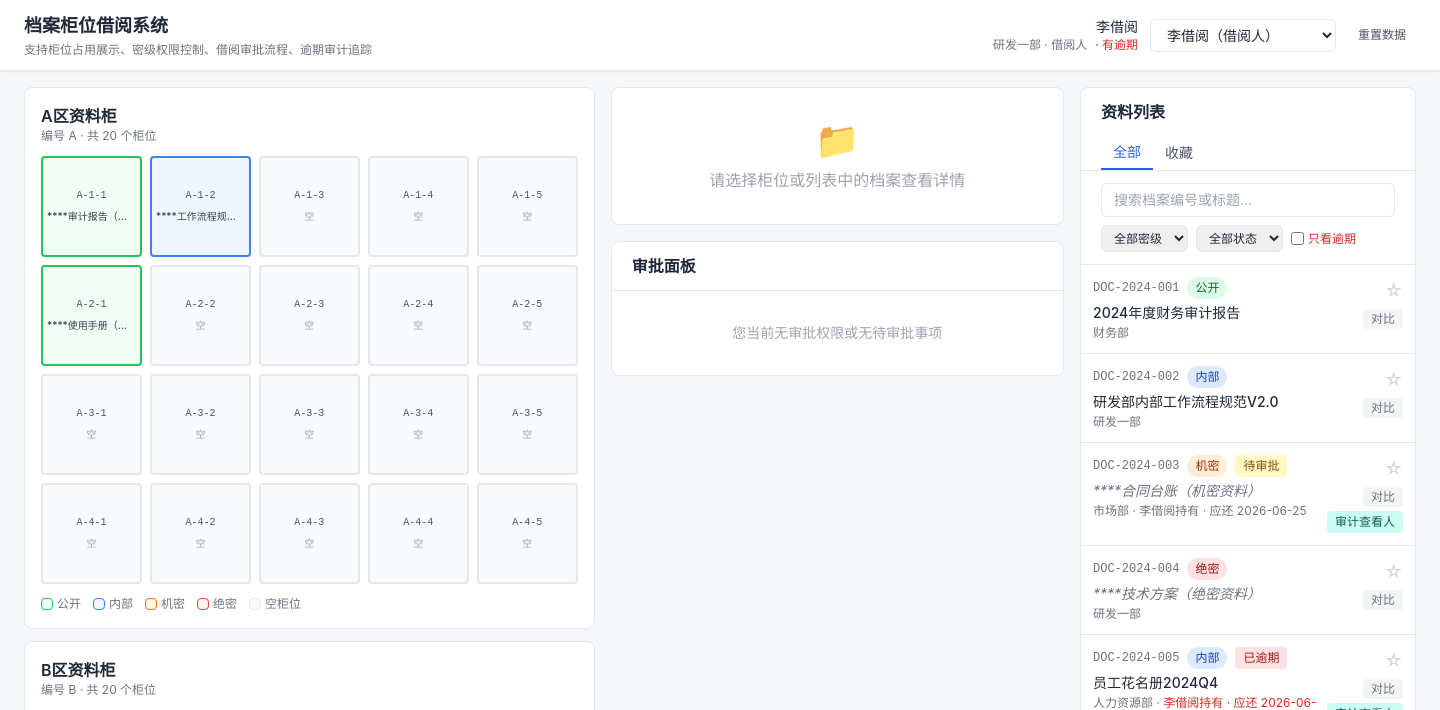
Test case: 档案柜位借阅系统 - 核心业务场景验证 › 场景2：无权限用户看不到涉密详情 › 部门管理员查看绝密档案详情时，标题和描述完整可见
Select "赵部门（部门管理员）" in the dropdown with test id "role-select" at (1243,35), box [1150,18,1336,52]
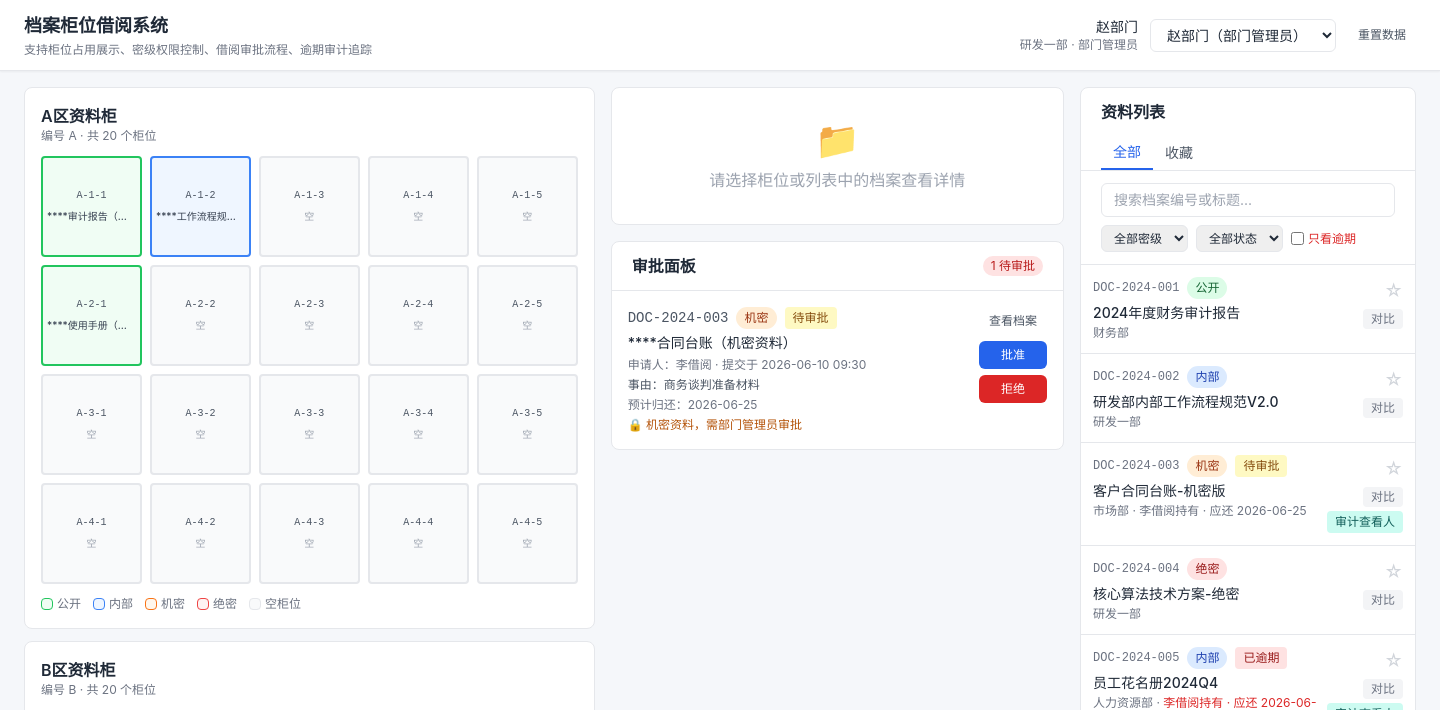
Click the element with test id "archive-row-arc-4" at (1248,590), box [1081,545,1415,634]
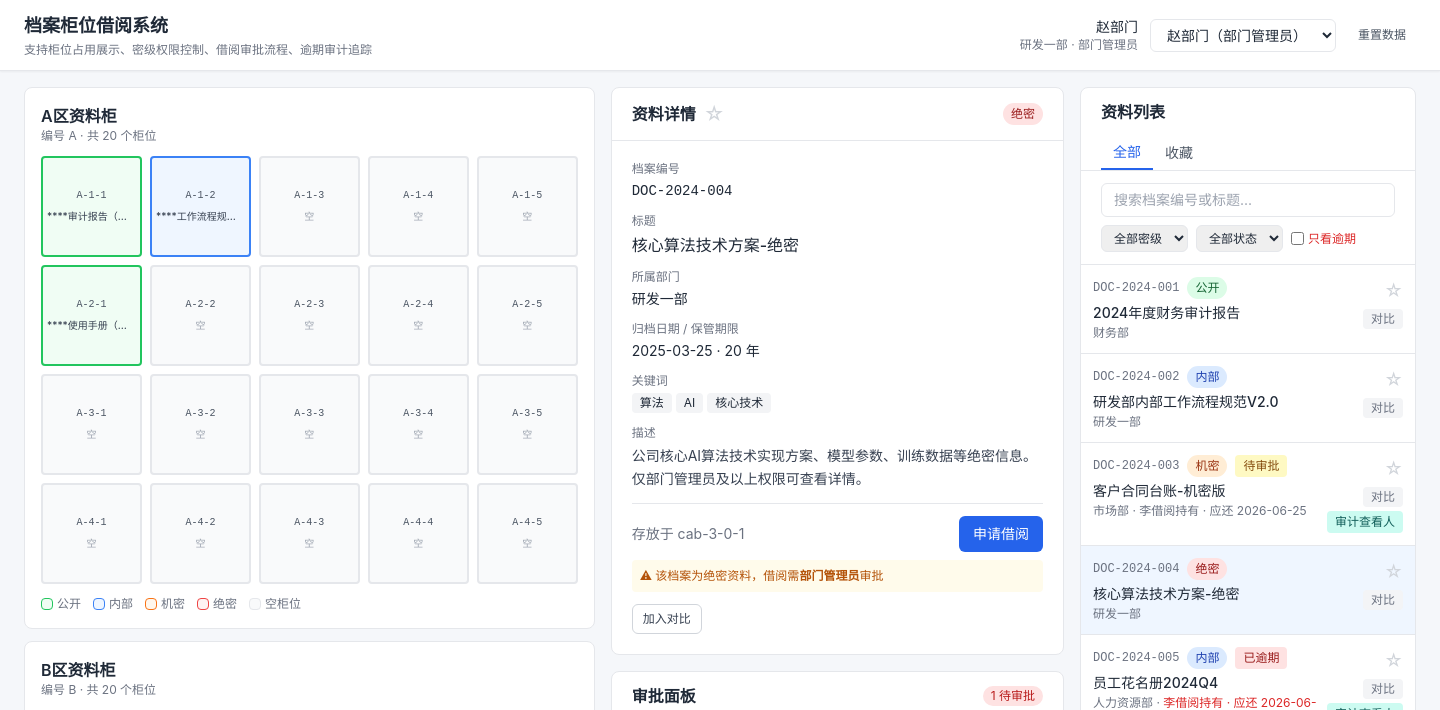
Expected: the element with test id "archive-detail" is shown, [611,87,1064,654]
Expected: the text with test id "archive-title" reads "核心算法技术方案-绝密", [632,235,799,255]
Expected: the text with test id "archive-description" shows "核心AI算法技术实现方案", [632,447,1037,487]
